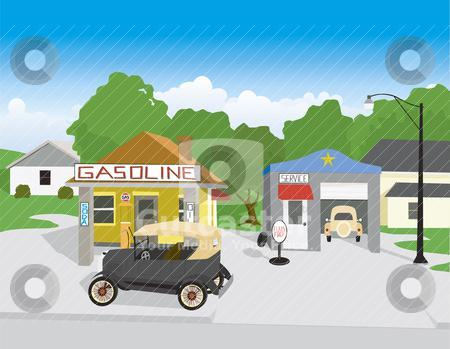car: (82, 219, 226, 313), (322, 202, 365, 247)
